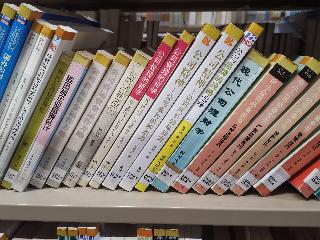book-spine: (114, 22, 245, 193), (134, 22, 264, 194), (99, 22, 222, 192), (188, 57, 320, 197), (170, 54, 298, 196), (85, 30, 196, 191), (148, 46, 269, 193), (75, 33, 177, 189), (58, 51, 151, 191), (210, 79, 320, 197), (43, 51, 132, 189), (25, 51, 112, 190), (8, 52, 90, 194), (0, 51, 73, 190), (0, 24, 65, 180), (228, 106, 320, 199), (0, 23, 53, 153), (0, 19, 44, 127), (253, 131, 320, 200), (0, 2, 33, 101)
